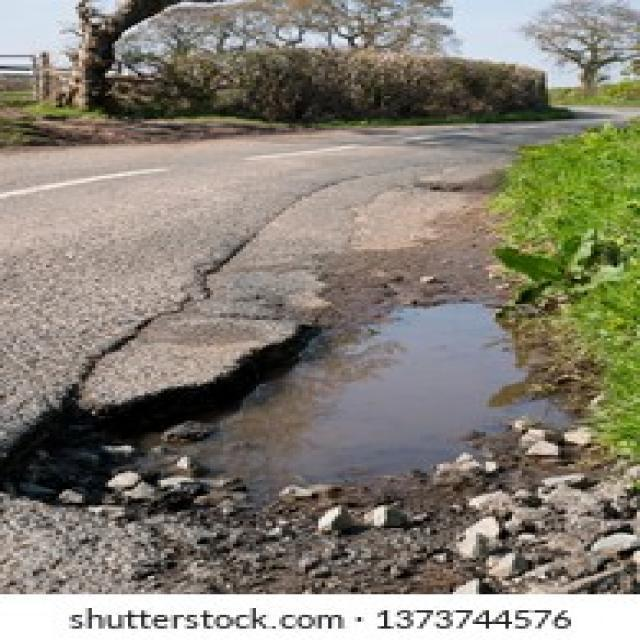Buraco: (0, 287, 595, 531)
